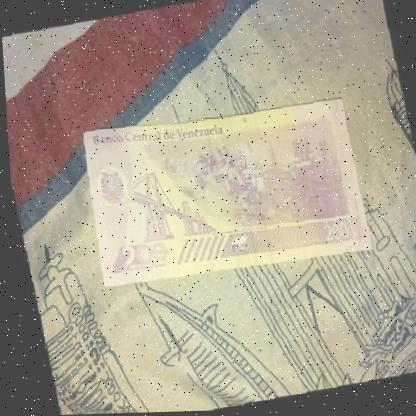two_hundred-back-vef: (71, 92, 369, 291)
